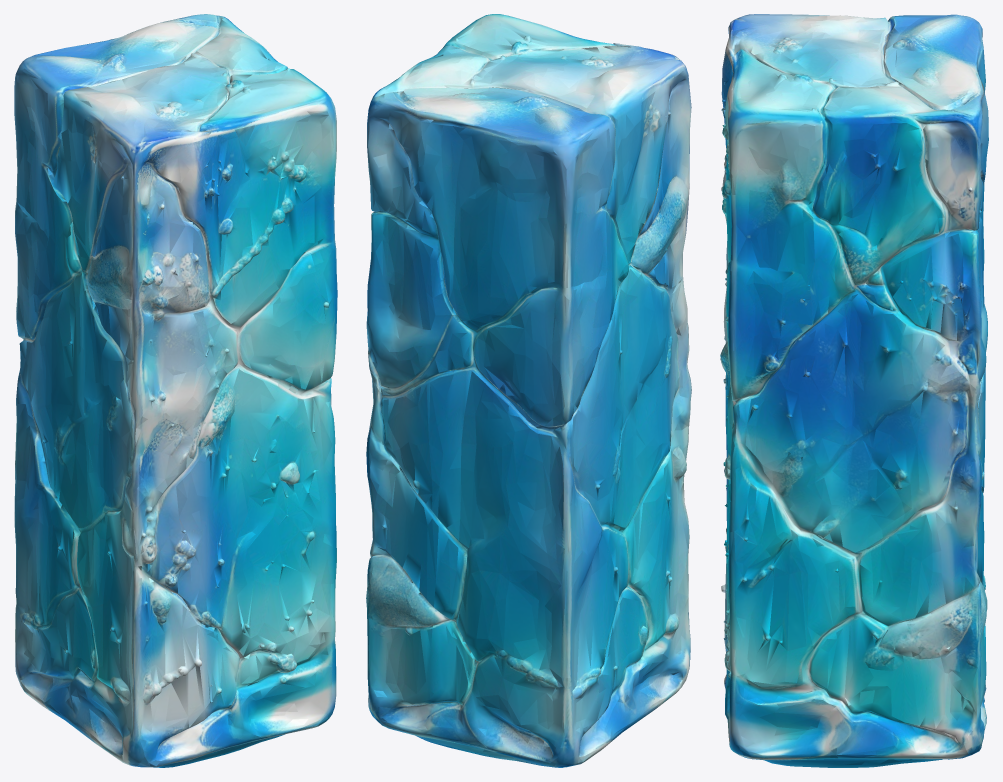
Rendered from buz_dikey_kup.glb.
The picture shows the model from 3 angles, left to right: view 1: azimuth 30°, elevation 25°; view 2: azimuth 150°, elevation 25°; view 3: azimuth 270°, elevation 25°; orthographic projection. The views are drawn at different scales.
Parts seen in each view (by area): view 1: tripo_node_c82e71e9-f273-487a-a92f-f8329459451b; view 2: tripo_node_c82e71e9-f273-487a-a92f-f8329459451b; view 3: tripo_node_c82e71e9-f273-487a-a92f-f8329459451b.
Boxes of the visible parts, <box> form: tripo_node_c82e71e9-f273-487a-a92f-f8329459451b: <box>14,14,337,767</box>; tripo_node_c82e71e9-f273-487a-a92f-f8329459451b: <box>366,14,691,767</box>; tripo_node_c82e71e9-f273-487a-a92f-f8329459451b: <box>720,14,988,767</box>.
Bounding box in the file's own units: 0.34 × 0.9816 × 0.3548.
Materials: 1 (1 with a texture image).
